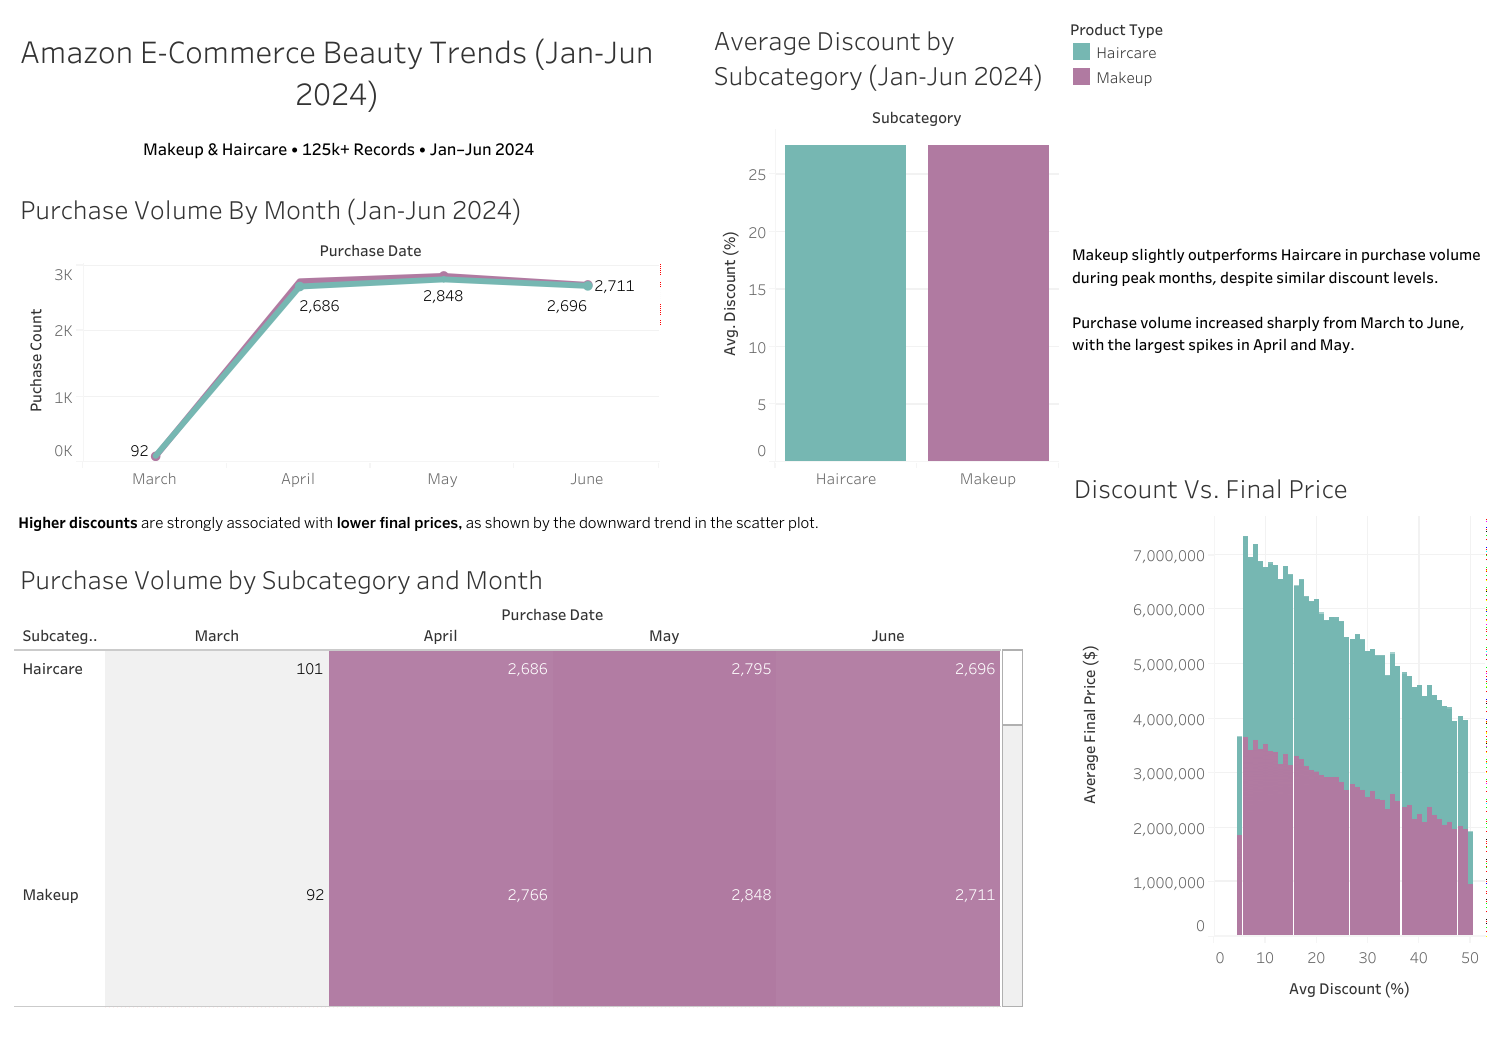

What the dashboard file says about the page in this screenshot:
{"tool":"tableau","page":{"name":"Amazon E-Commerce Beauty Trends (Jan-Jun 2024)","canvas":[1200,850],"ordinal":0},"visuals":[{"type":"title","box":[8,8,522.6,97]},{"type":"blank","box":[530.6,8,32,387]},{"type":"worksheet","title":"Average Discount by Subcategory","mark":"Bar","rows":["discount"],"cols":["subcategory"],"box":[562.6,8,288.3,387]},{"type":"legend","title":"Purchase Volume Over Time","param":"[federated.0u4w8rw17l0qq81daowb00zggv4k].[none:subcategory:nk]","box":[851,8,341,103]},{"type":"text","box":[8,105,522.6,32]},{"type":"text","box":[851,111,341,255]},{"type":"worksheet","title":"Purchase Volume Over Time","mark":"Line","rows":["purchase_date"],"cols":["purchase_date"],"box":[8,143,522.6,252]},{"type":"worksheet","title":"Discount Vs. Final Price","mark":"Circle","rows":["final_price"],"cols":["discount"],"box":[851,366,341,444]},{"type":"text","box":[8,395,843,44.2]},{"type":"worksheet","title":"Highlight Table - Subcategory By Month","mark":"Square","rows":["subcategory"],"cols":["purchase_date"],"box":[8,439.2,827.7,370.8]},{"type":"blank","box":[8,810,1184,32]}]}

Visuals, with their boxes in screenshot pixels (x1, y1, x2, y2), scaled from the page's 1200x850 canvas onto the 1499x1061 screenshot:
title: 10, 10, 663, 131
blank: 663, 10, 703, 493
"Average Discount by Subcategory" worksheet (Bar marks): 703, 10, 1063, 493
"Purchase Volume Over Time" legend: 1063, 10, 1489, 139
text: 10, 131, 663, 171
text: 1063, 139, 1489, 457
"Purchase Volume Over Time" worksheet (Line marks): 10, 178, 663, 493
"Discount Vs. Final Price" worksheet (Circle marks): 1063, 457, 1489, 1011
text: 10, 493, 1063, 548
"Highlight Table - Subcategory By Month" worksheet (Square marks): 10, 548, 1044, 1011
blank: 10, 1011, 1489, 1051
